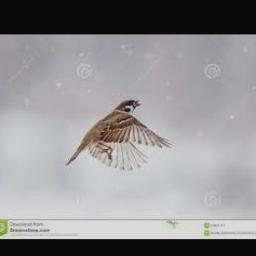Sparrow: (66, 99, 175, 170)
